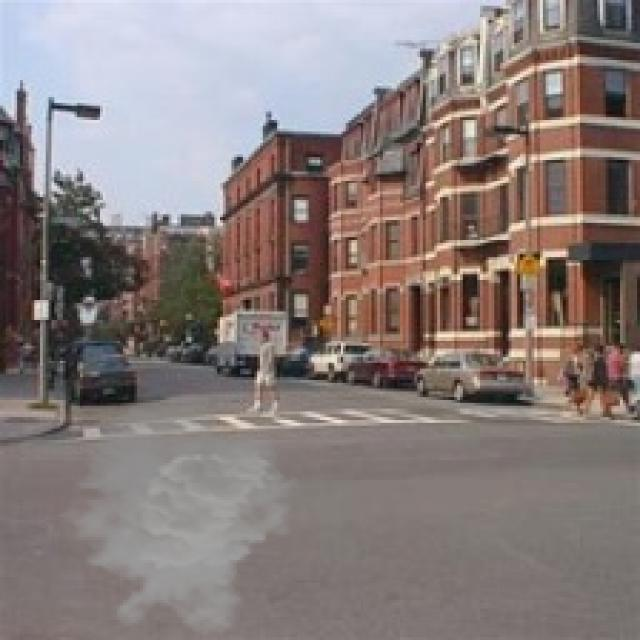smoke: (48, 400, 303, 637)
